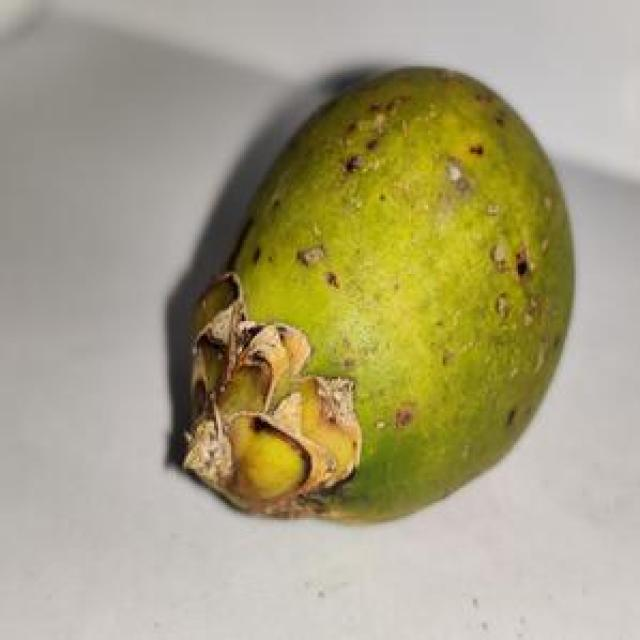damaged: (178, 66, 578, 529)
